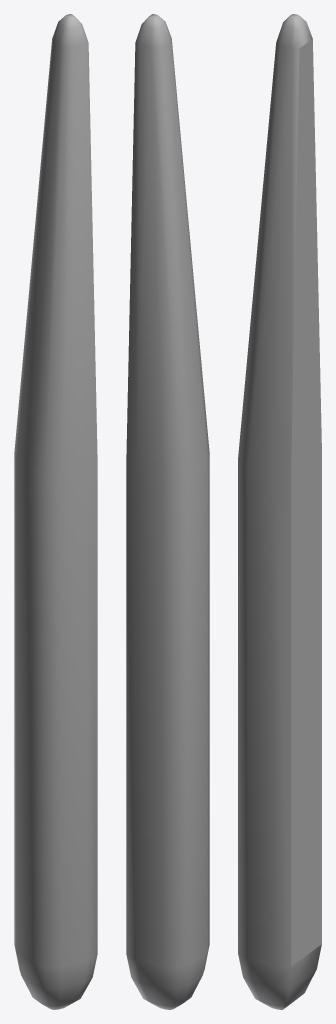
Rendered from surface-tail.fbx.
The picture shows the model from 3 angles, left to right: view 1: azimuth 30°, elevation 25°; view 2: azimuth 150°, elevation 25°; view 3: azimuth 330°, elevation 25°; orthographic projection.
Parts seen in each view (by area): view 1: surface-tail; view 2: surface-tail; view 3: surface-tail.
Boxes of the visible parts, x1,y1,x2,y2 form: surface-tail: (14, 14, 97, 1009); surface-tail: (126, 14, 209, 1009); surface-tail: (238, 14, 321, 1009).
Size of what is drawn, in the model's own units: 0.3646 by 5.87 by 0.4.
1 material, 1 textured.
